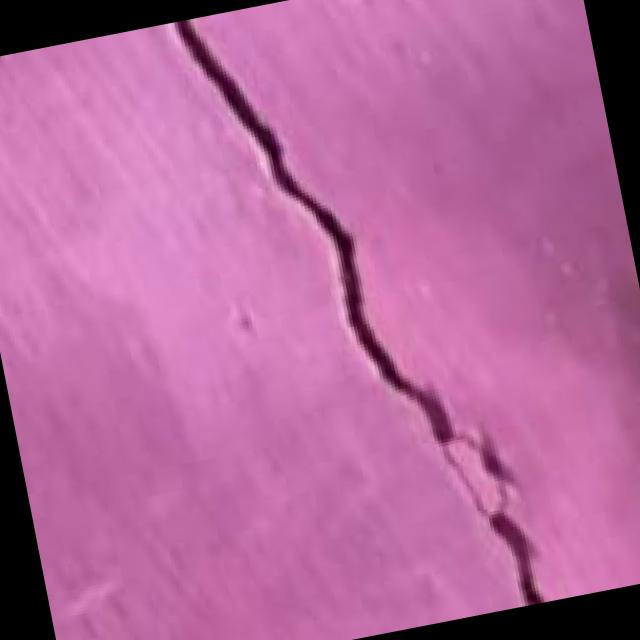crack: (165, 0, 559, 640)
